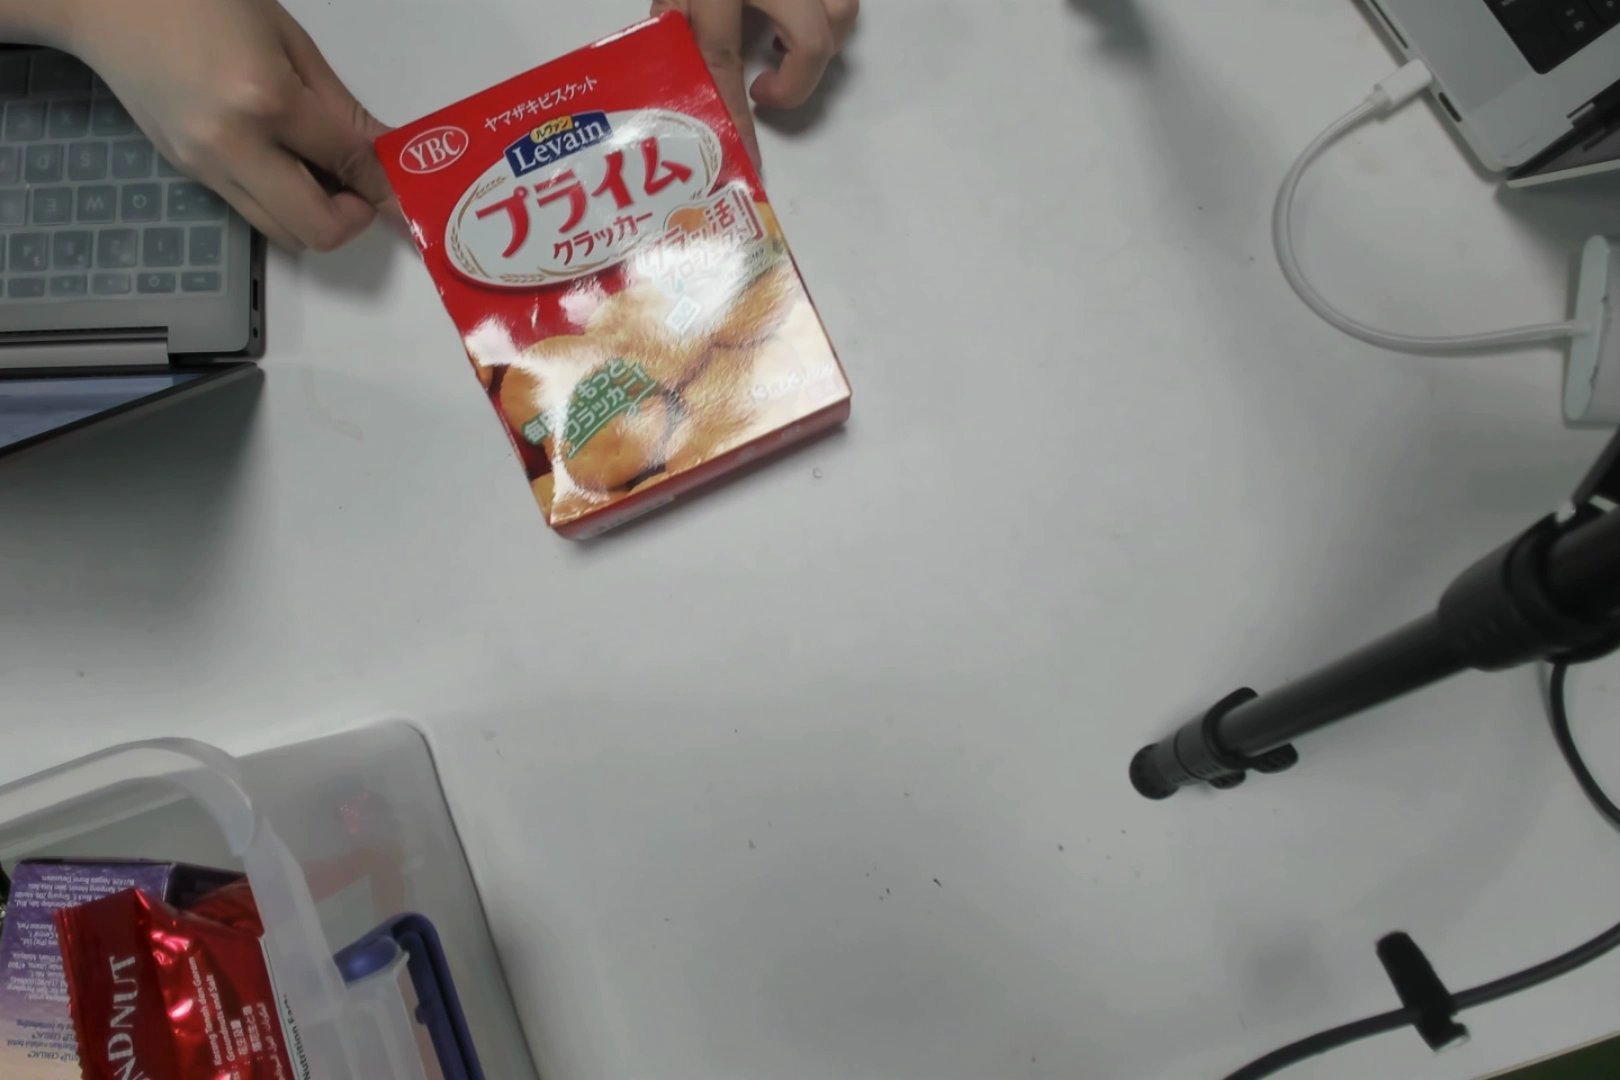c: (403, 67, 787, 483)
